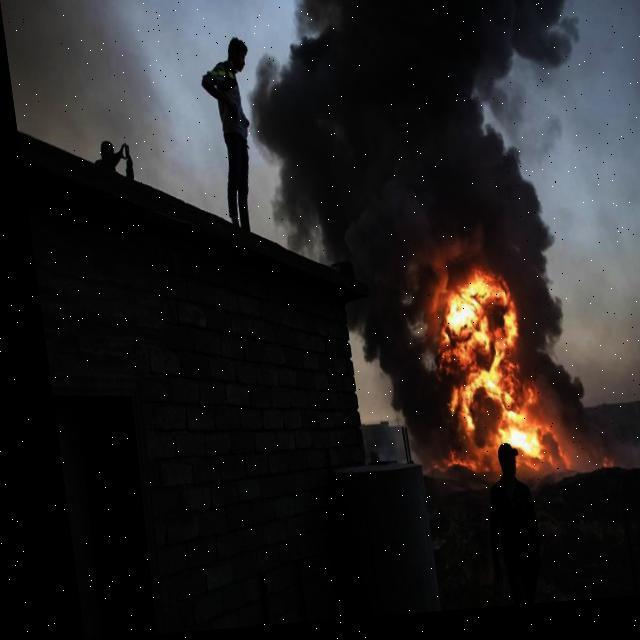Fire: (408, 251, 556, 491), (588, 463, 600, 478)
